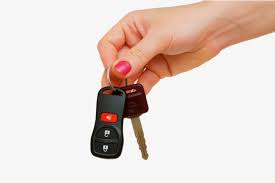keys: (86, 62, 155, 169)
